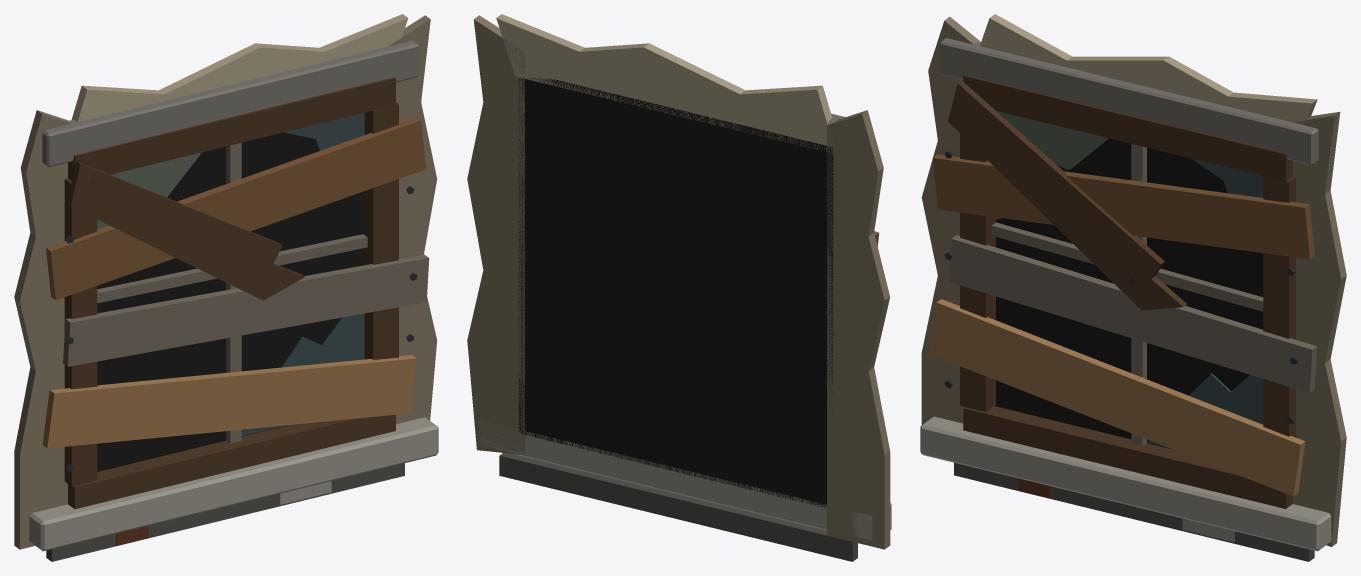
Rendered from ruin_window.fbx.
3 views of the same model, side by side, from view 1: azimuth 30°, elevation 25°; view 2: azimuth 150°, elevation 25°; view 3: azimuth 330°, elevation 25° (orthographic).
Parts seen in each view (by area): view 1: ruin_window; view 2: ruin_window; view 3: ruin_window.
Boxes of the visible parts, x1,y1,x2,y2 form: ruin_window: (14, 14, 438, 561); ruin_window: (467, 14, 891, 561); ruin_window: (920, 14, 1346, 561).
Size of the model in its own units: 1.3 by 1.38 by 0.098.
